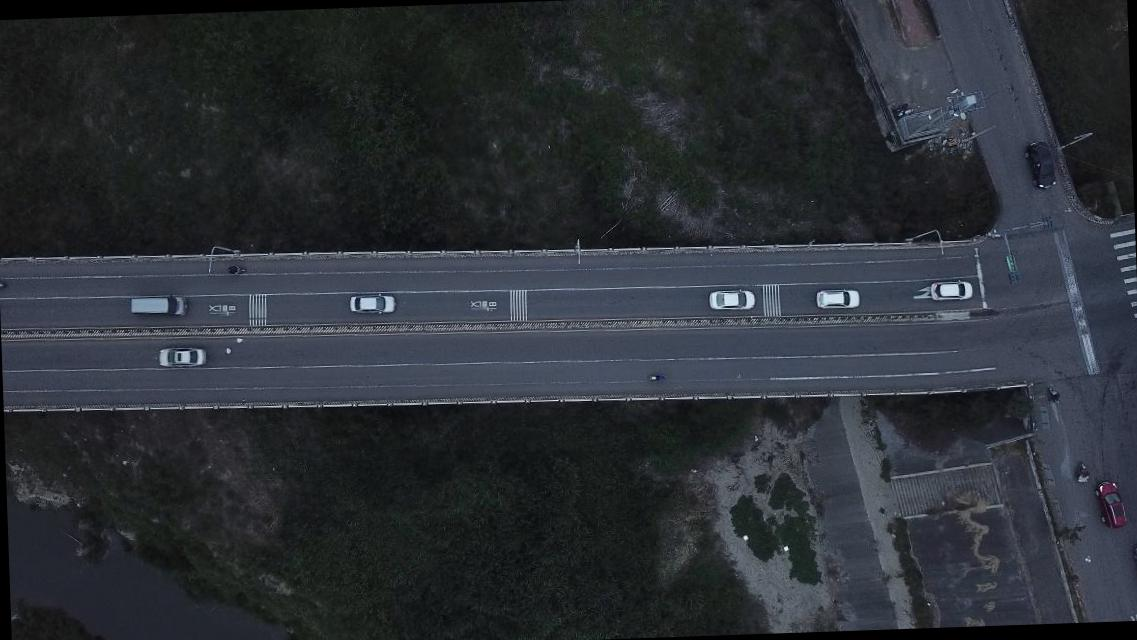vehicle: (1094, 480, 1128, 528), (1025, 142, 1057, 189), (130, 294, 188, 316), (347, 292, 397, 317), (708, 286, 755, 312), (156, 346, 206, 368), (814, 288, 861, 310), (928, 278, 973, 300), (1133, 544, 1136, 599)
